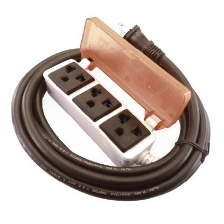three_eye_plug: (39, 54, 158, 173)
